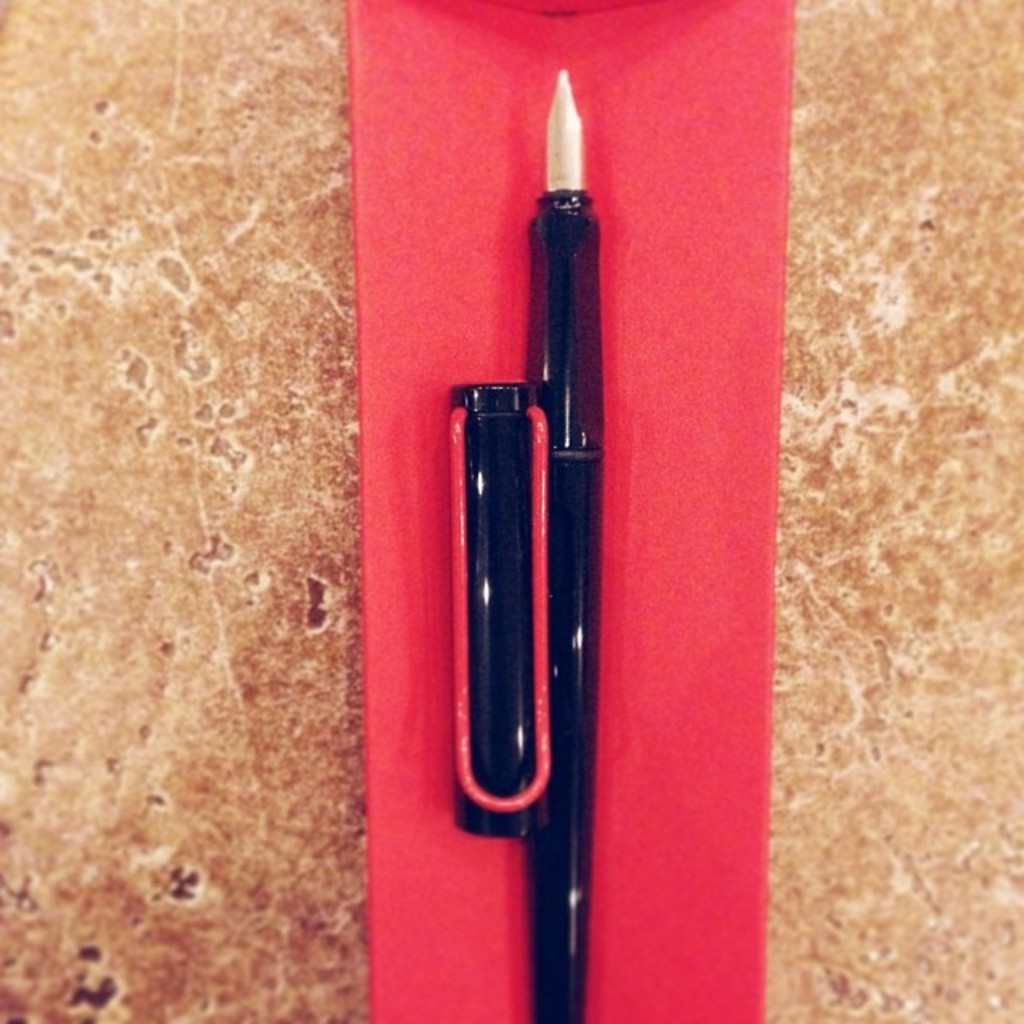Pen: (530, 64, 606, 1022)
